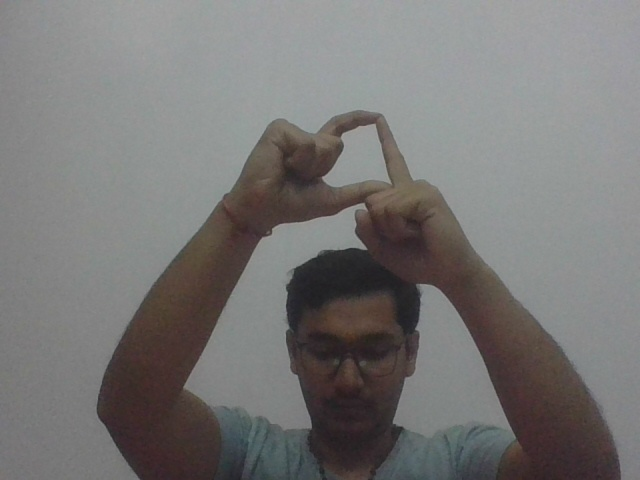D: (245, 107, 466, 259)
